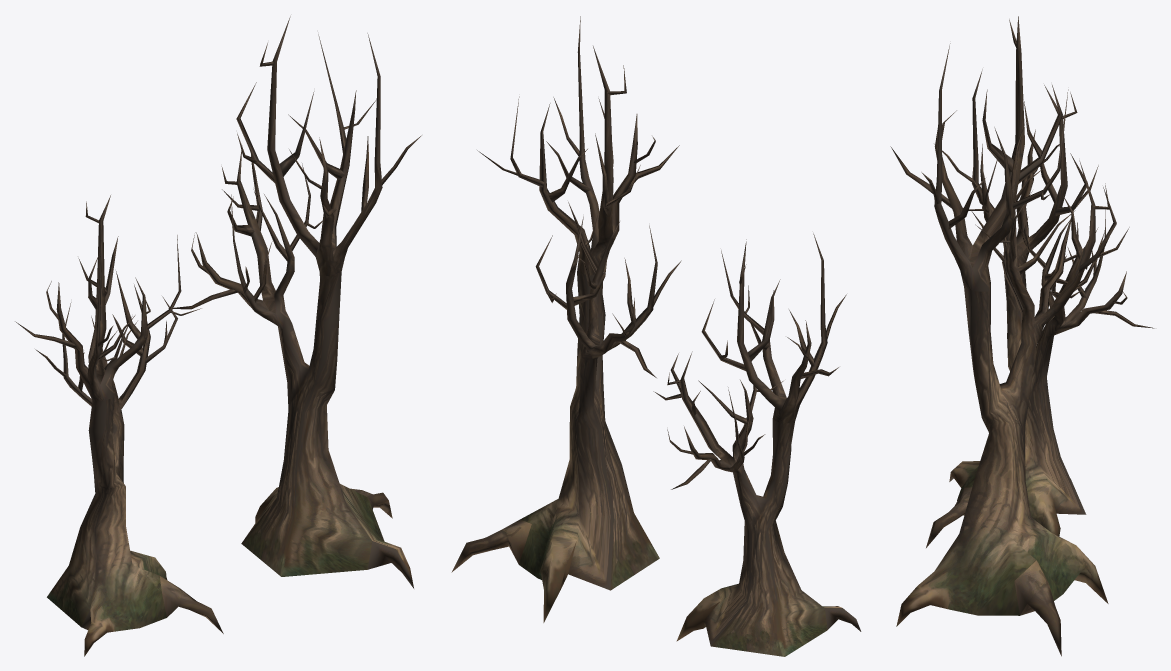
Rendered from plants_tall_tree_trunks08.fbx.
The picture shows the model from 3 angles, left to right: view 1: azimuth 30°, elevation 25°; view 2: azimuth 150°, elevation 25°; view 3: azimuth 270°, elevation 25°; orthographic projection. The views are drawn at different scales.
Parts seen in each view (by area): view 1: Material_#238683193/fancy_tree; view 2: Material_#238683193/fancy_tree; view 3: Material_#238683193/fancy_tree.
Part boxes in pixels (x1,y1,x2,y2): Material_#238683193/fancy_tree: (15, 16, 421, 656); Material_#238683193/fancy_tree: (451, 16, 861, 656); Material_#238683193/fancy_tree: (890, 16, 1154, 656).
Bounding box in the file's own units: 6.46 × 9.06 × 3.66.
